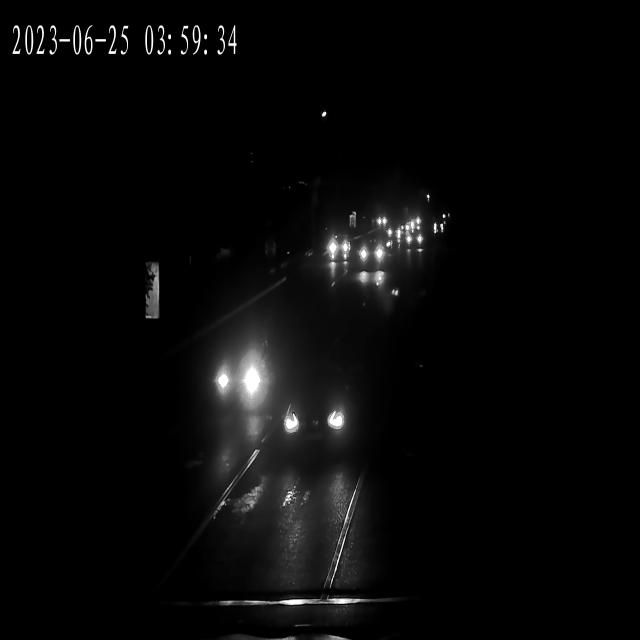Car: (280, 380, 354, 451), (207, 339, 276, 408), (354, 237, 388, 268), (323, 236, 352, 262), (382, 222, 402, 241), (406, 230, 426, 249), (405, 234, 425, 251), (384, 225, 404, 242), (372, 214, 390, 229)
